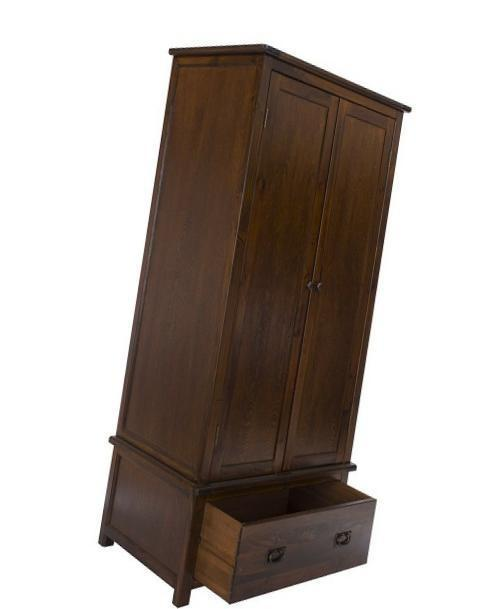Armario: (95, 34, 417, 598)
